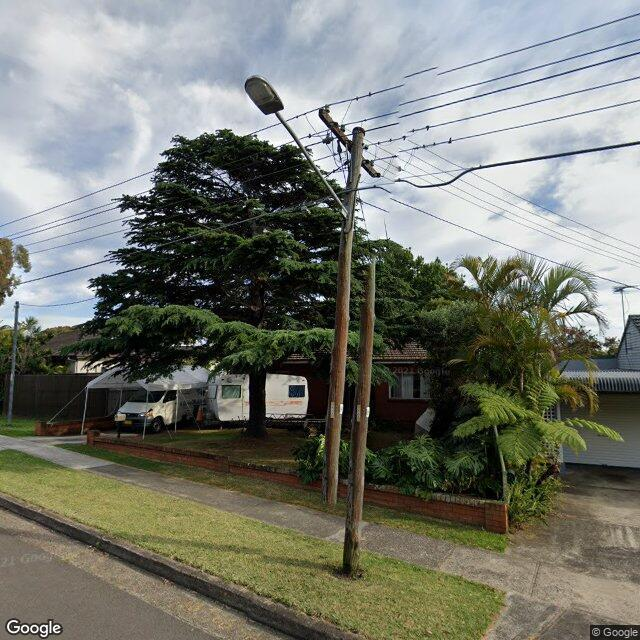crossarm: (319, 108, 379, 178)
steel-pole: (6, 300, 20, 424)
streetlight: (244, 74, 349, 218)
timber-pole: (325, 127, 374, 579)
